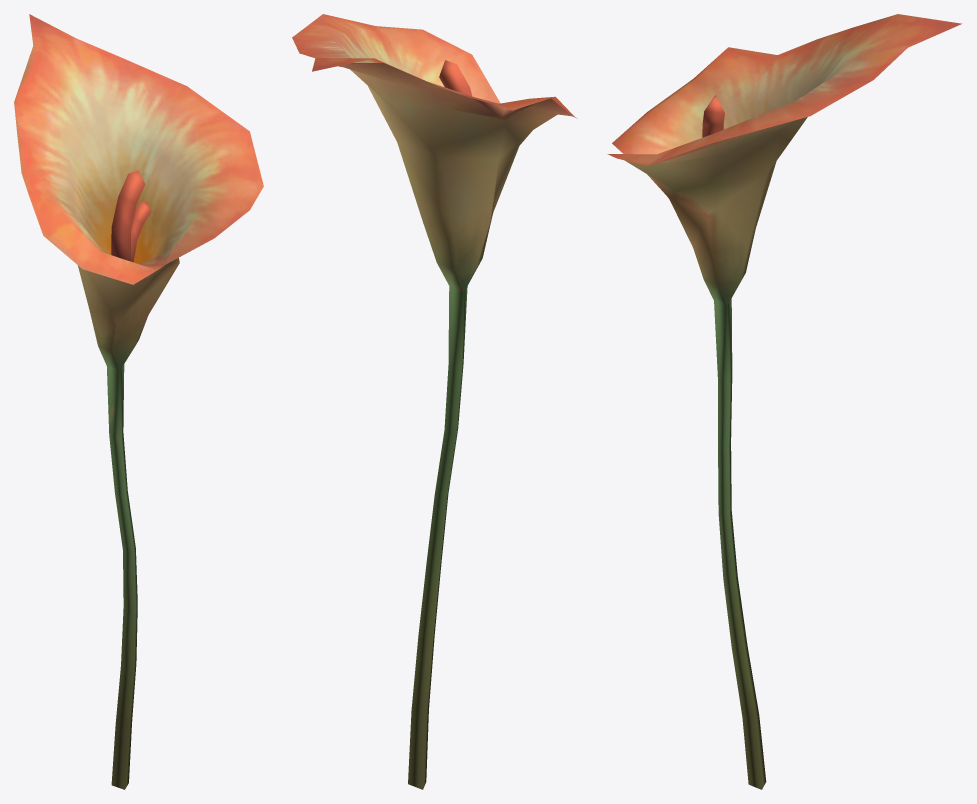
The model's file is Homeworld_General_Common_Thing_Prop_Irodori_MainFlower_01_Vo.fbx.
3 renders of one model, left to right at view 1: azimuth 30°, elevation 25°; view 2: azimuth 150°, elevation 25°; view 3: azimuth 270°, elevation 25°, orthographic. The views are drawn at different scales.
Parts seen in each view (by area): view 1: Homeworld_General_Common_Thing_Prop_Irodori_MainFlower_01_Vo; view 2: Homeworld_General_Common_Thing_Prop_Irodori_MainFlower_01_Vo; view 3: Homeworld_General_Common_Thing_Prop_Irodori_MainFlower_01_Vo.
Boxes of the visible parts, <box> form: Homeworld_General_Common_Thing_Prop_Irodori_MainFlower_01_Vo: <box>14,14,263,789</box>; Homeworld_General_Common_Thing_Prop_Irodori_MainFlower_01_Vo: <box>292,14,577,789</box>; Homeworld_General_Common_Thing_Prop_Irodori_MainFlower_01_Vo: <box>607,14,962,789</box>.
Size of the model in its own units: 0.1147 by 0.3579 by 0.1511.
1 material, 1 textured.
